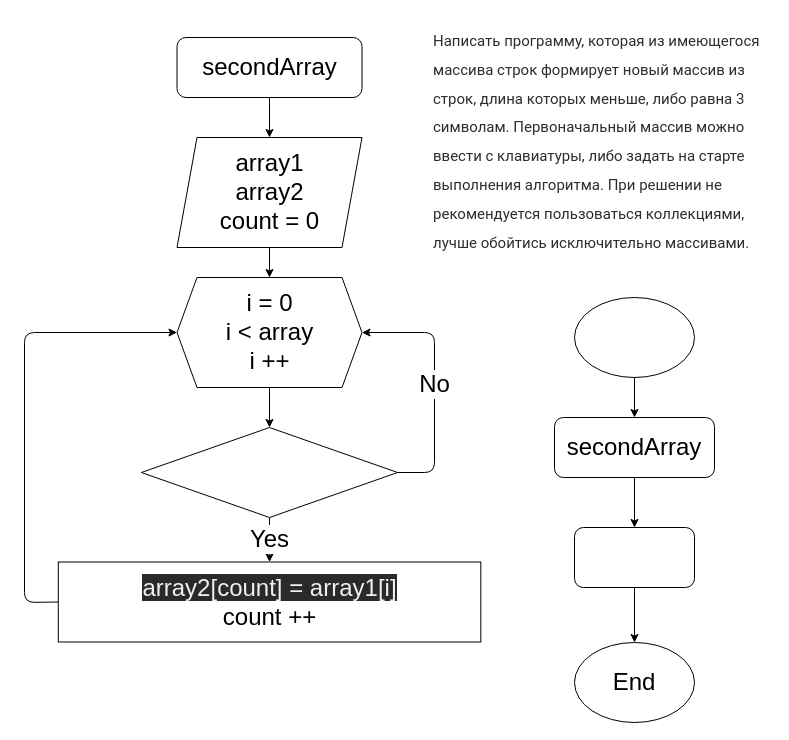
The diagram is 789 pixels wide and 740 high, and some of its shapes have lost their labels. Here are the shapes that lost their labels. From the top down, the box of each, then its label:
(574, 296, 694, 378): Start
(140, 426, 398, 518): array[i] <= 3
(574, 526, 694, 588): printArray
